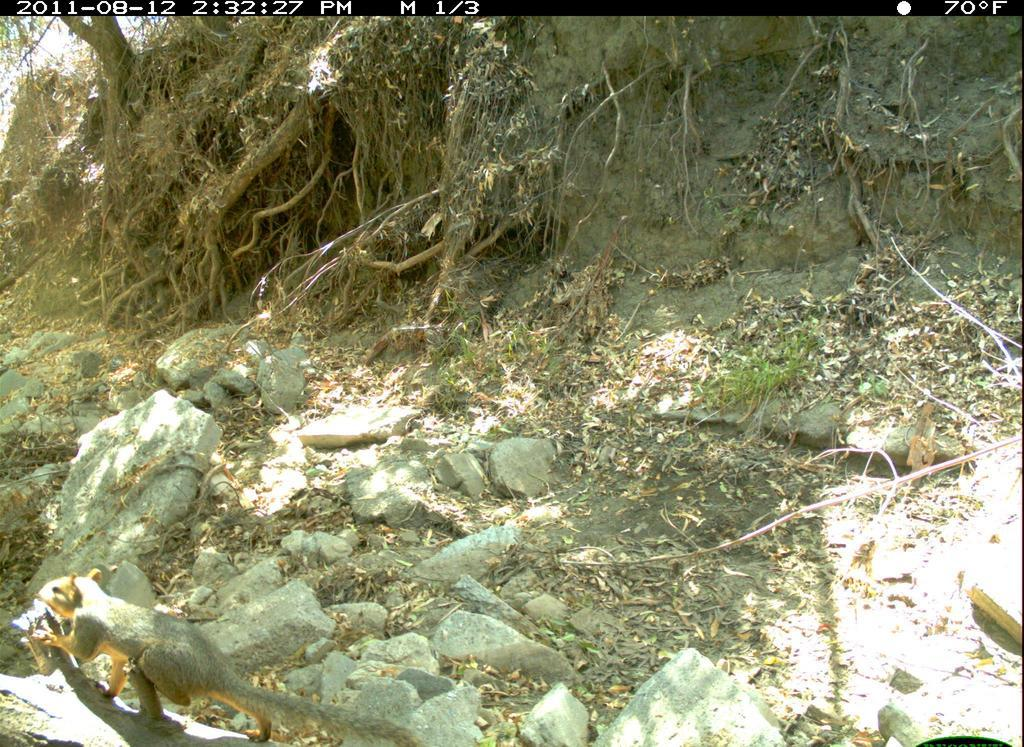squirrel: (27, 556, 423, 743)
